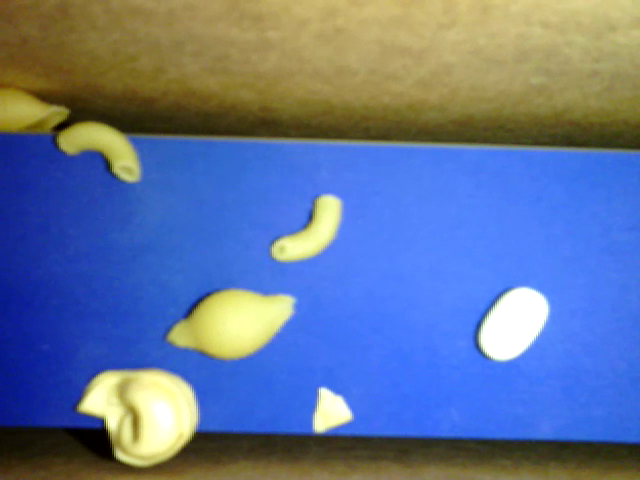elbow: (57, 120, 142, 185), (269, 194, 343, 262)
shell: (165, 290, 295, 356), (1, 85, 73, 136)
tortellini: (74, 367, 199, 468)
